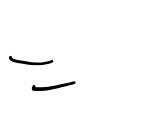eqv: (6, 52, 76, 92)
